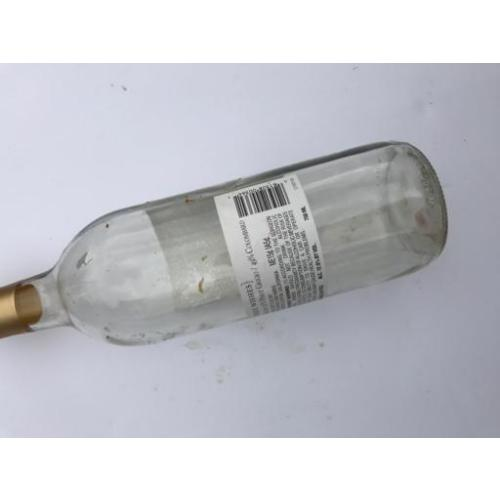glass: (4, 135, 447, 350)
